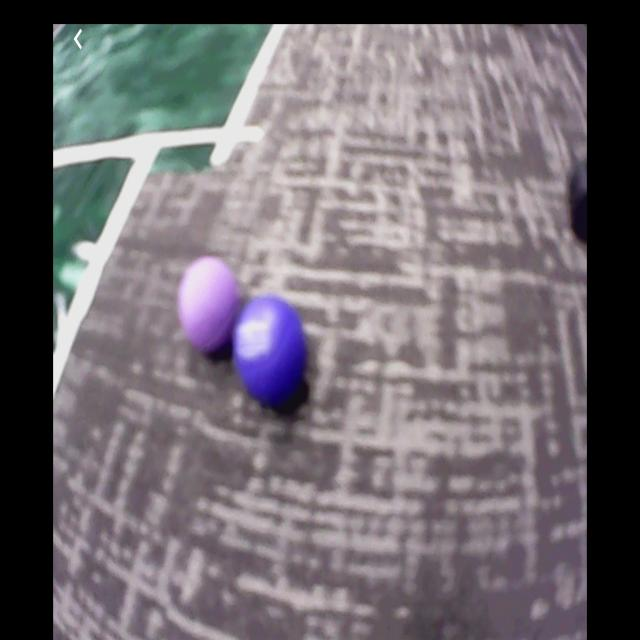ball: (234, 300, 308, 409), (179, 258, 242, 361)
